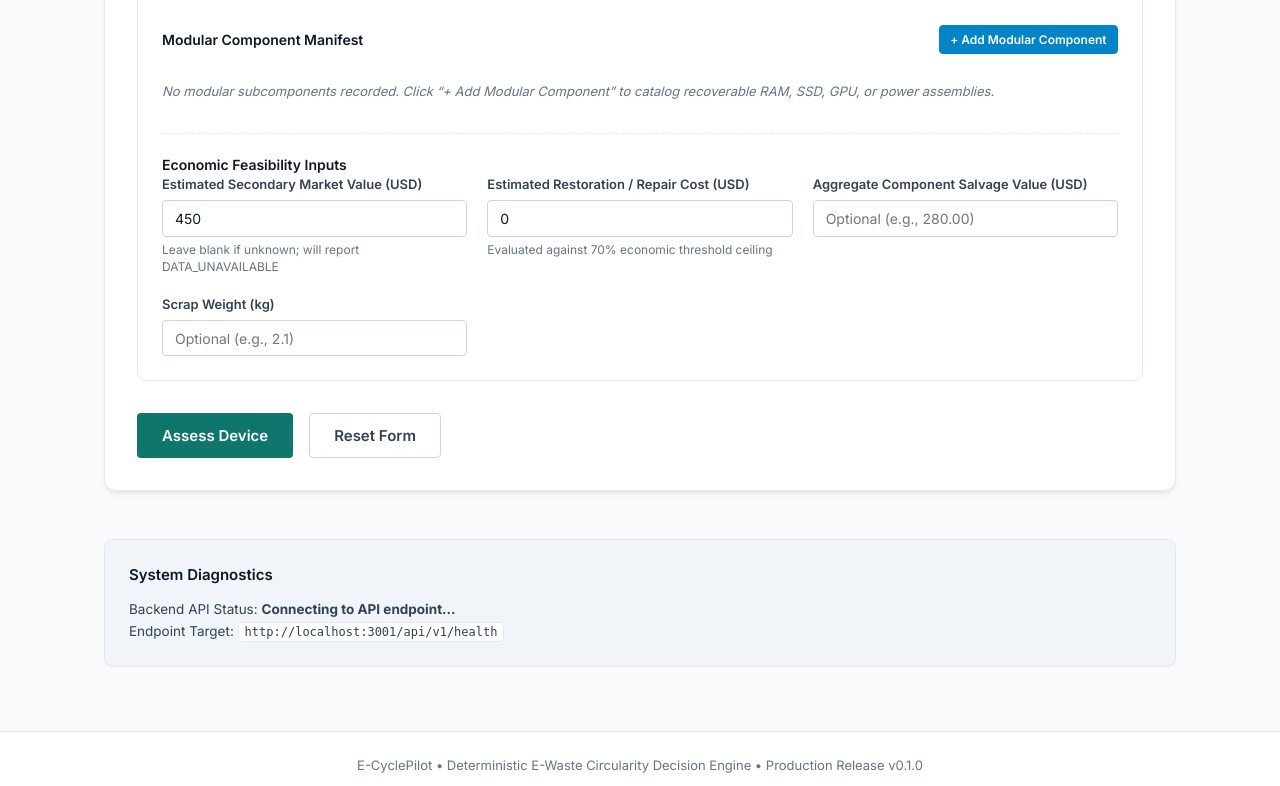
Test case: E-CyclePilot Complete Frontend Application Suite › renders SPECIAL_HANDLING with critical safety alert and containment protocol
The image size is (1280, 786).
(page scrolled)
Click the button with test id "assess-submit-btn". click: (215, 436)
box: [137,413,293,458]
(page scrolled)
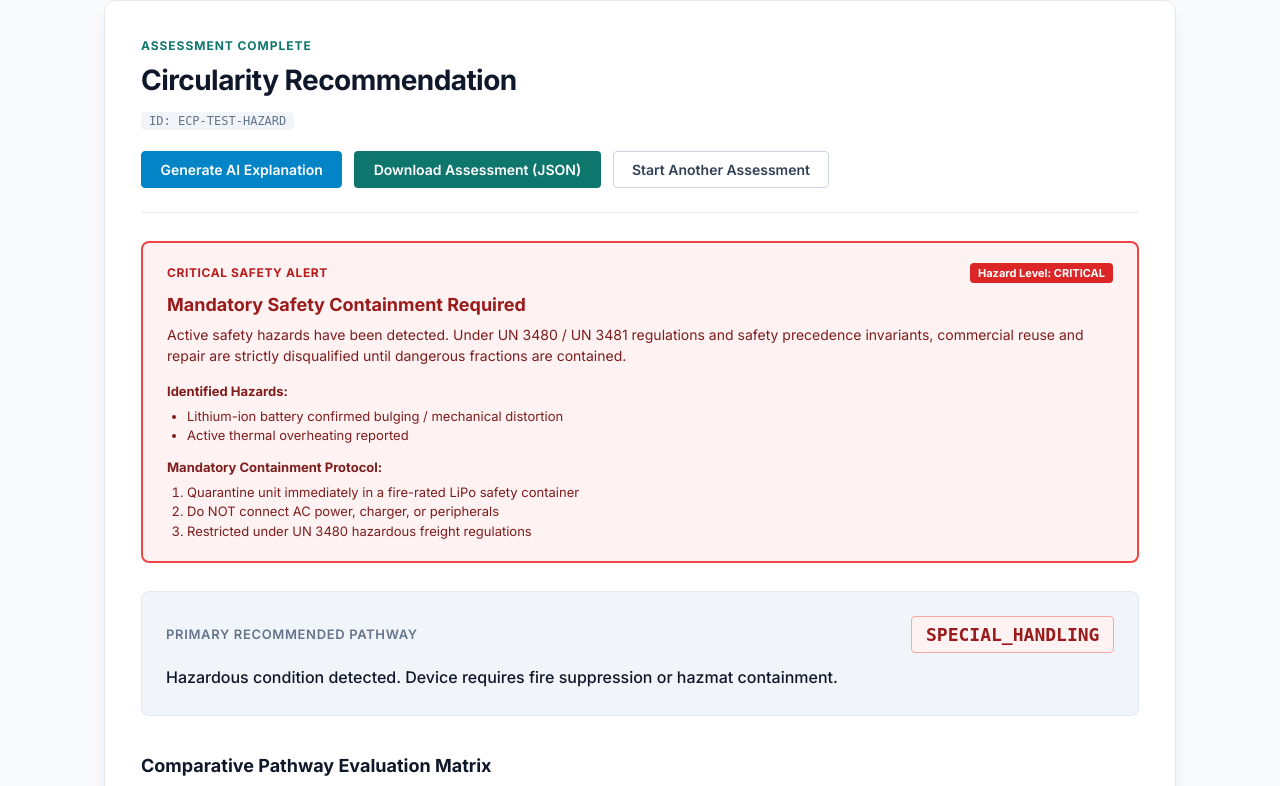
Check: the message with test id "safety-alert-banner" is shown, box [141,241,1139,563]
Check: the text "CRITICAL SAFETY ALERT" is shown, box [167,264,328,282]
Check: the list item "Lithium-ion battery confirmed bulging" is shown, box [187,408,563,424]
